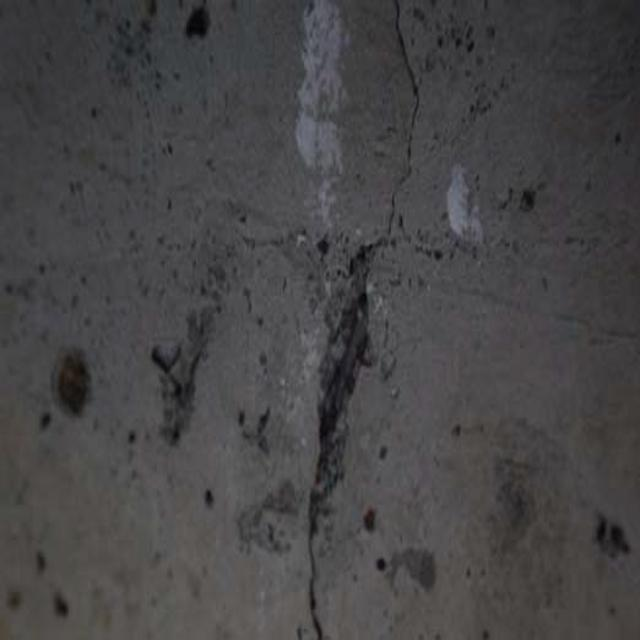crack: (283, 13, 430, 638)
